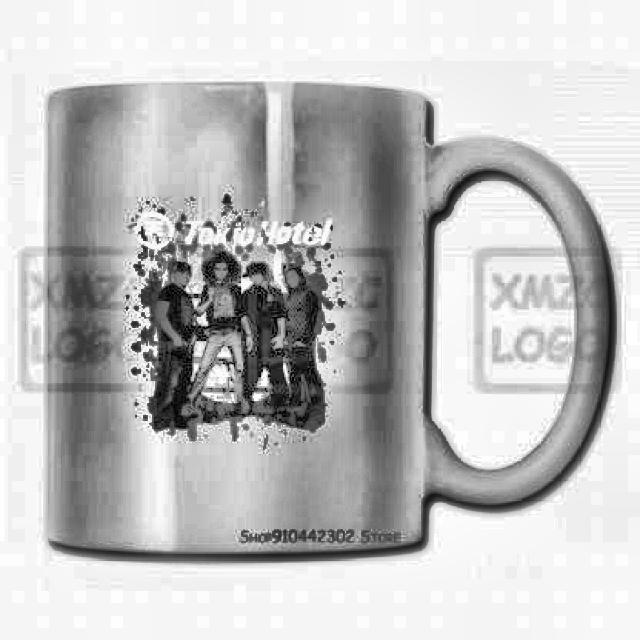Mug: (40, 78, 617, 567)
